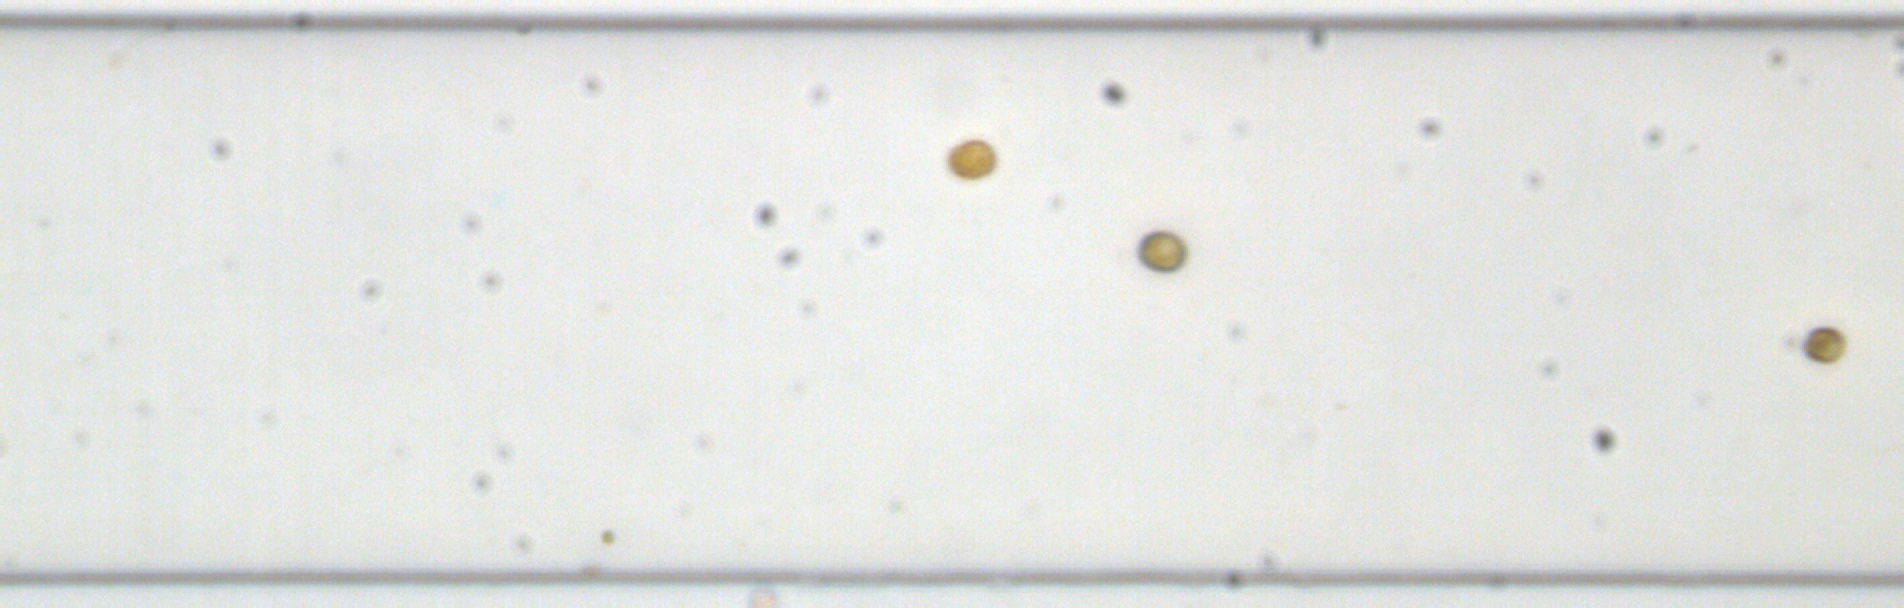Chlorella: (596, 527, 620, 549)
Effrenium: (943, 136, 999, 183), (1134, 227, 1188, 275), (1797, 323, 1847, 365)
